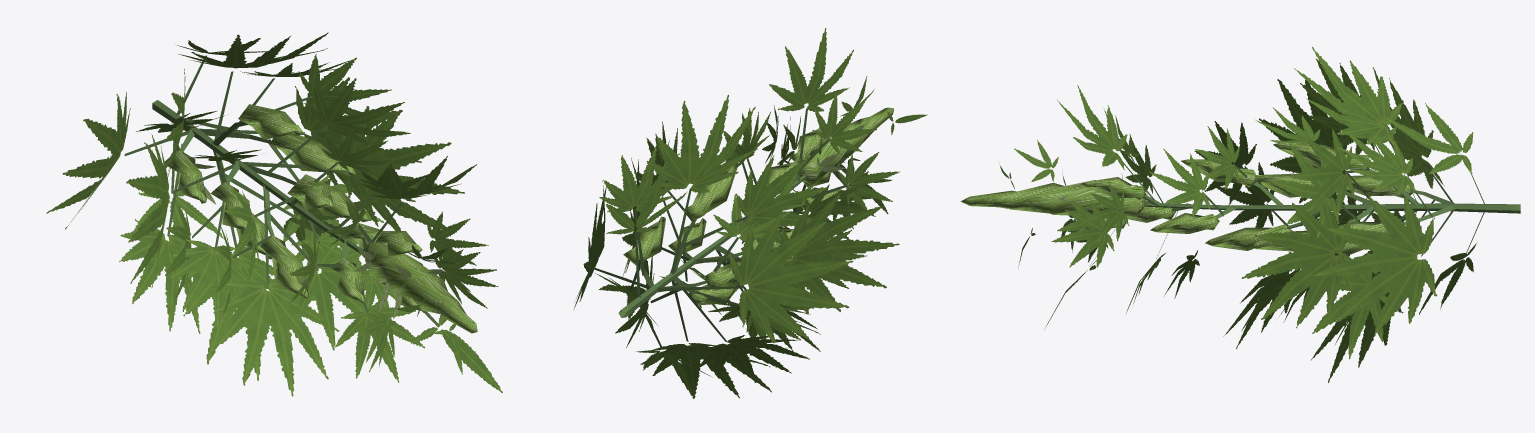
The model's file is p_landrace_flowering_c0_cards.obj.
The picture shows the model from 3 angles, left to right: view 1: azimuth 30°, elevation 25°; view 2: azimuth 150°, elevation 25°; view 3: azimuth 270°, elevation 25°; orthographic projection. The views are drawn at different scales.
Size of the model in its own units: 1.52 by 1.5 by 2.12.
Materials: 1 (1 with a texture image).
